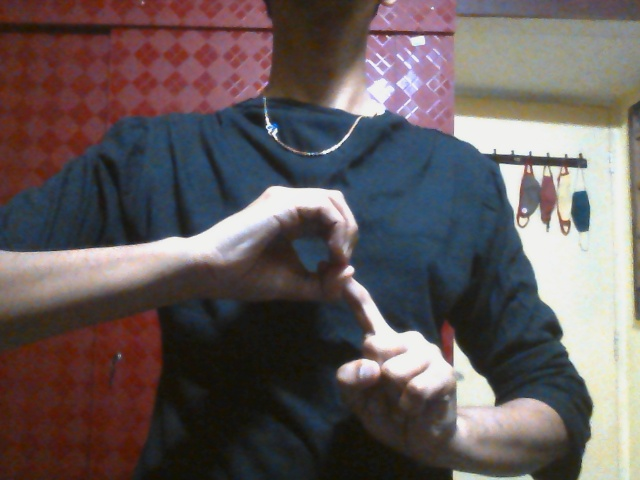Q: (206, 185, 458, 466)
